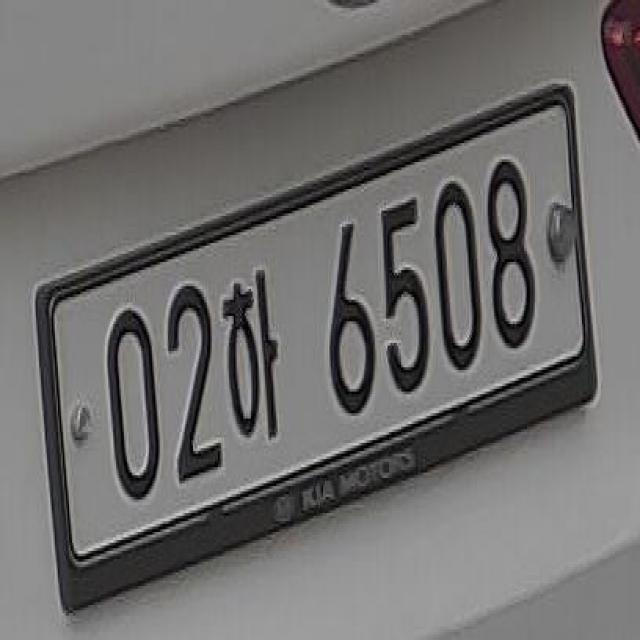illegal_plate: (34, 89, 602, 594)
